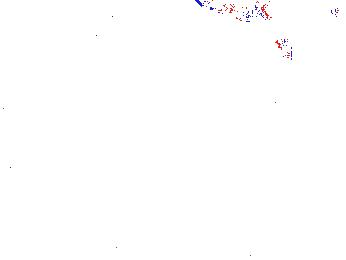glassfish: (75, 4, 216, 72)
redtail glassfish: (194, 1, 269, 21), (275, 33, 294, 62)
